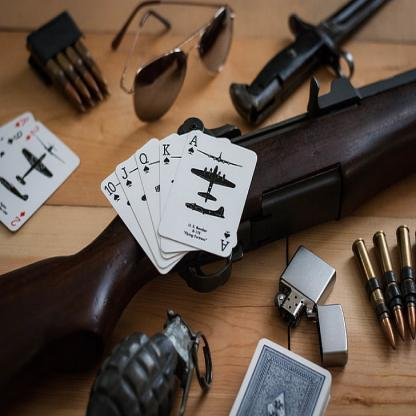Grenade: (85, 307, 214, 416)
Gun: (0, 66, 416, 406)
Knife: (229, 0, 390, 131)
